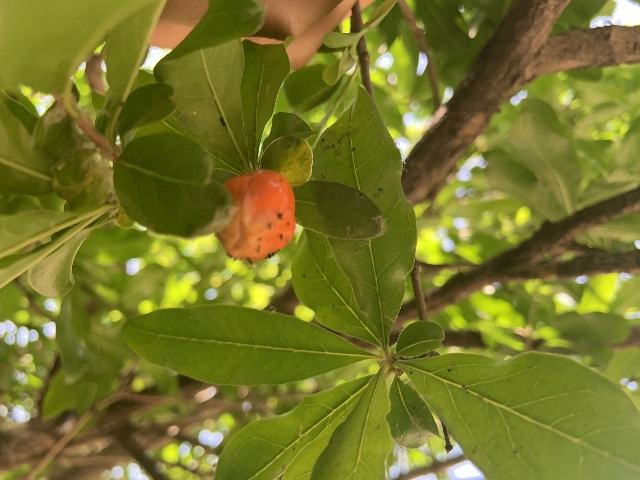bud: (217, 169, 295, 262)
